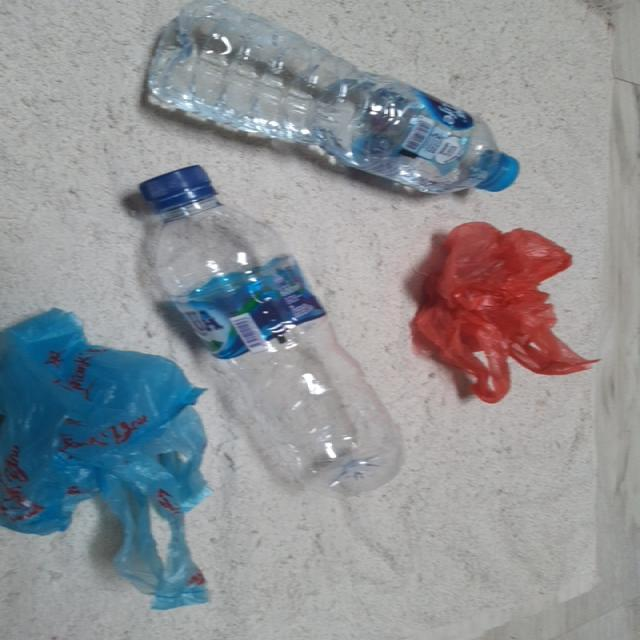Single-layer Plastic: (0, 309, 209, 609), (411, 222, 595, 402)
